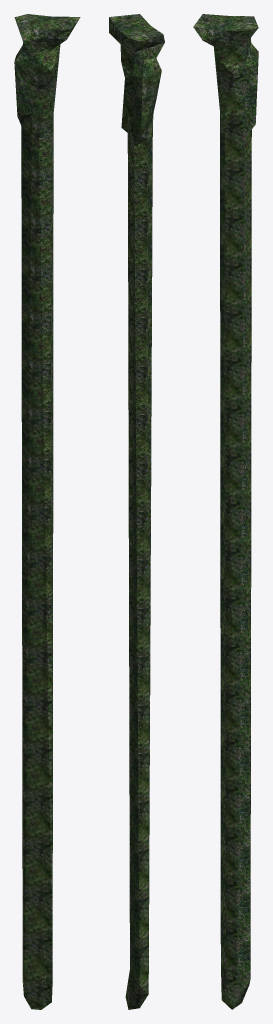
Rendered from Spot for ramp.fbx.
3 views of the same model, side by side, from view 1: azimuth 90°, elevation 25°; view 2: azimuth 210°, elevation 25°; view 3: azimuth 270°, elevation 25° (orthographic).
Visible parts, largest first — view 1: Spot for ramp; view 2: Spot for ramp; view 3: Spot for ramp.
Boxes of the visible parts, <box> form: Spot for ramp: <box>14,14,80,1009</box>; Spot for ramp: <box>109,14,164,1009</box>; Spot for ramp: <box>193,14,258,1009</box>.
Size of the model in its own units: 283 by 7693 by 464.
